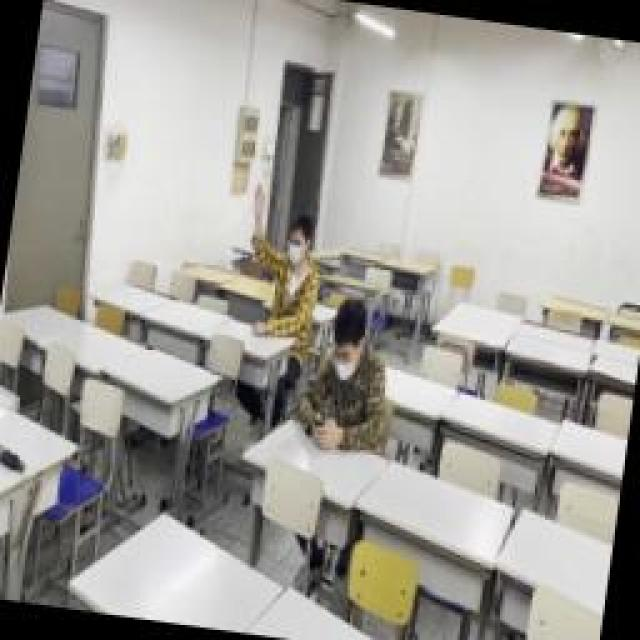phone: (295, 290, 400, 458)
study: (235, 180, 330, 342)
